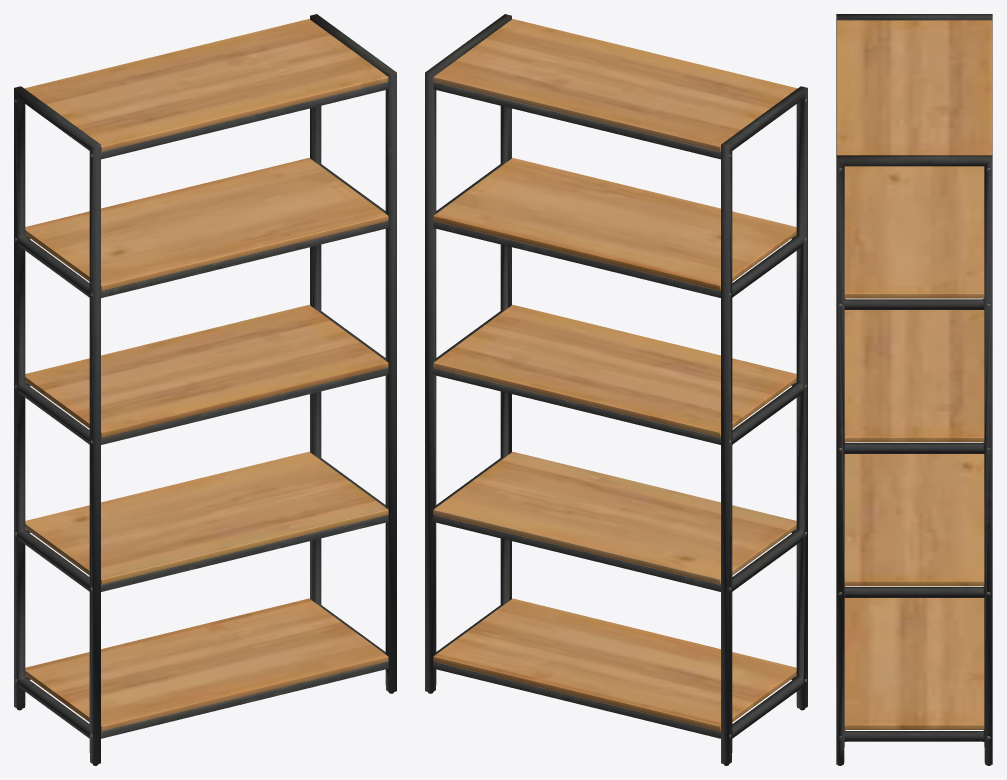
File: steel_frame_shelves_01.glb
3 views of the same model, side by side, from view 1: azimuth 30°, elevation 25°; view 2: azimuth 150°, elevation 25°; view 3: azimuth 270°, elevation 25° (orthographic). The views are drawn at different scales.
Parts seen in each view (by area): view 1: steel_frame_shelves_01; view 2: steel_frame_shelves_01; view 3: steel_frame_shelves_01.
Part boxes in pixels (left/top/right/bottom): steel_frame_shelves_01: left=14, top=14, right=396, bottom=765; steel_frame_shelves_01: left=425, top=14, right=807, bottom=765; steel_frame_shelves_01: left=836, top=14, right=992, bottom=765.
Size of the model in its own units: 10.97 by 21.39 by 5.
Materials: 1 (1 with a texture image).
